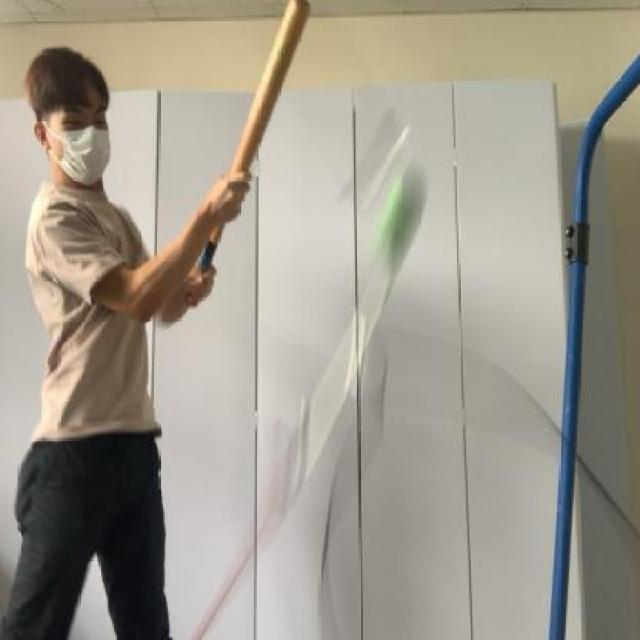baseball: (365, 162, 432, 286)
